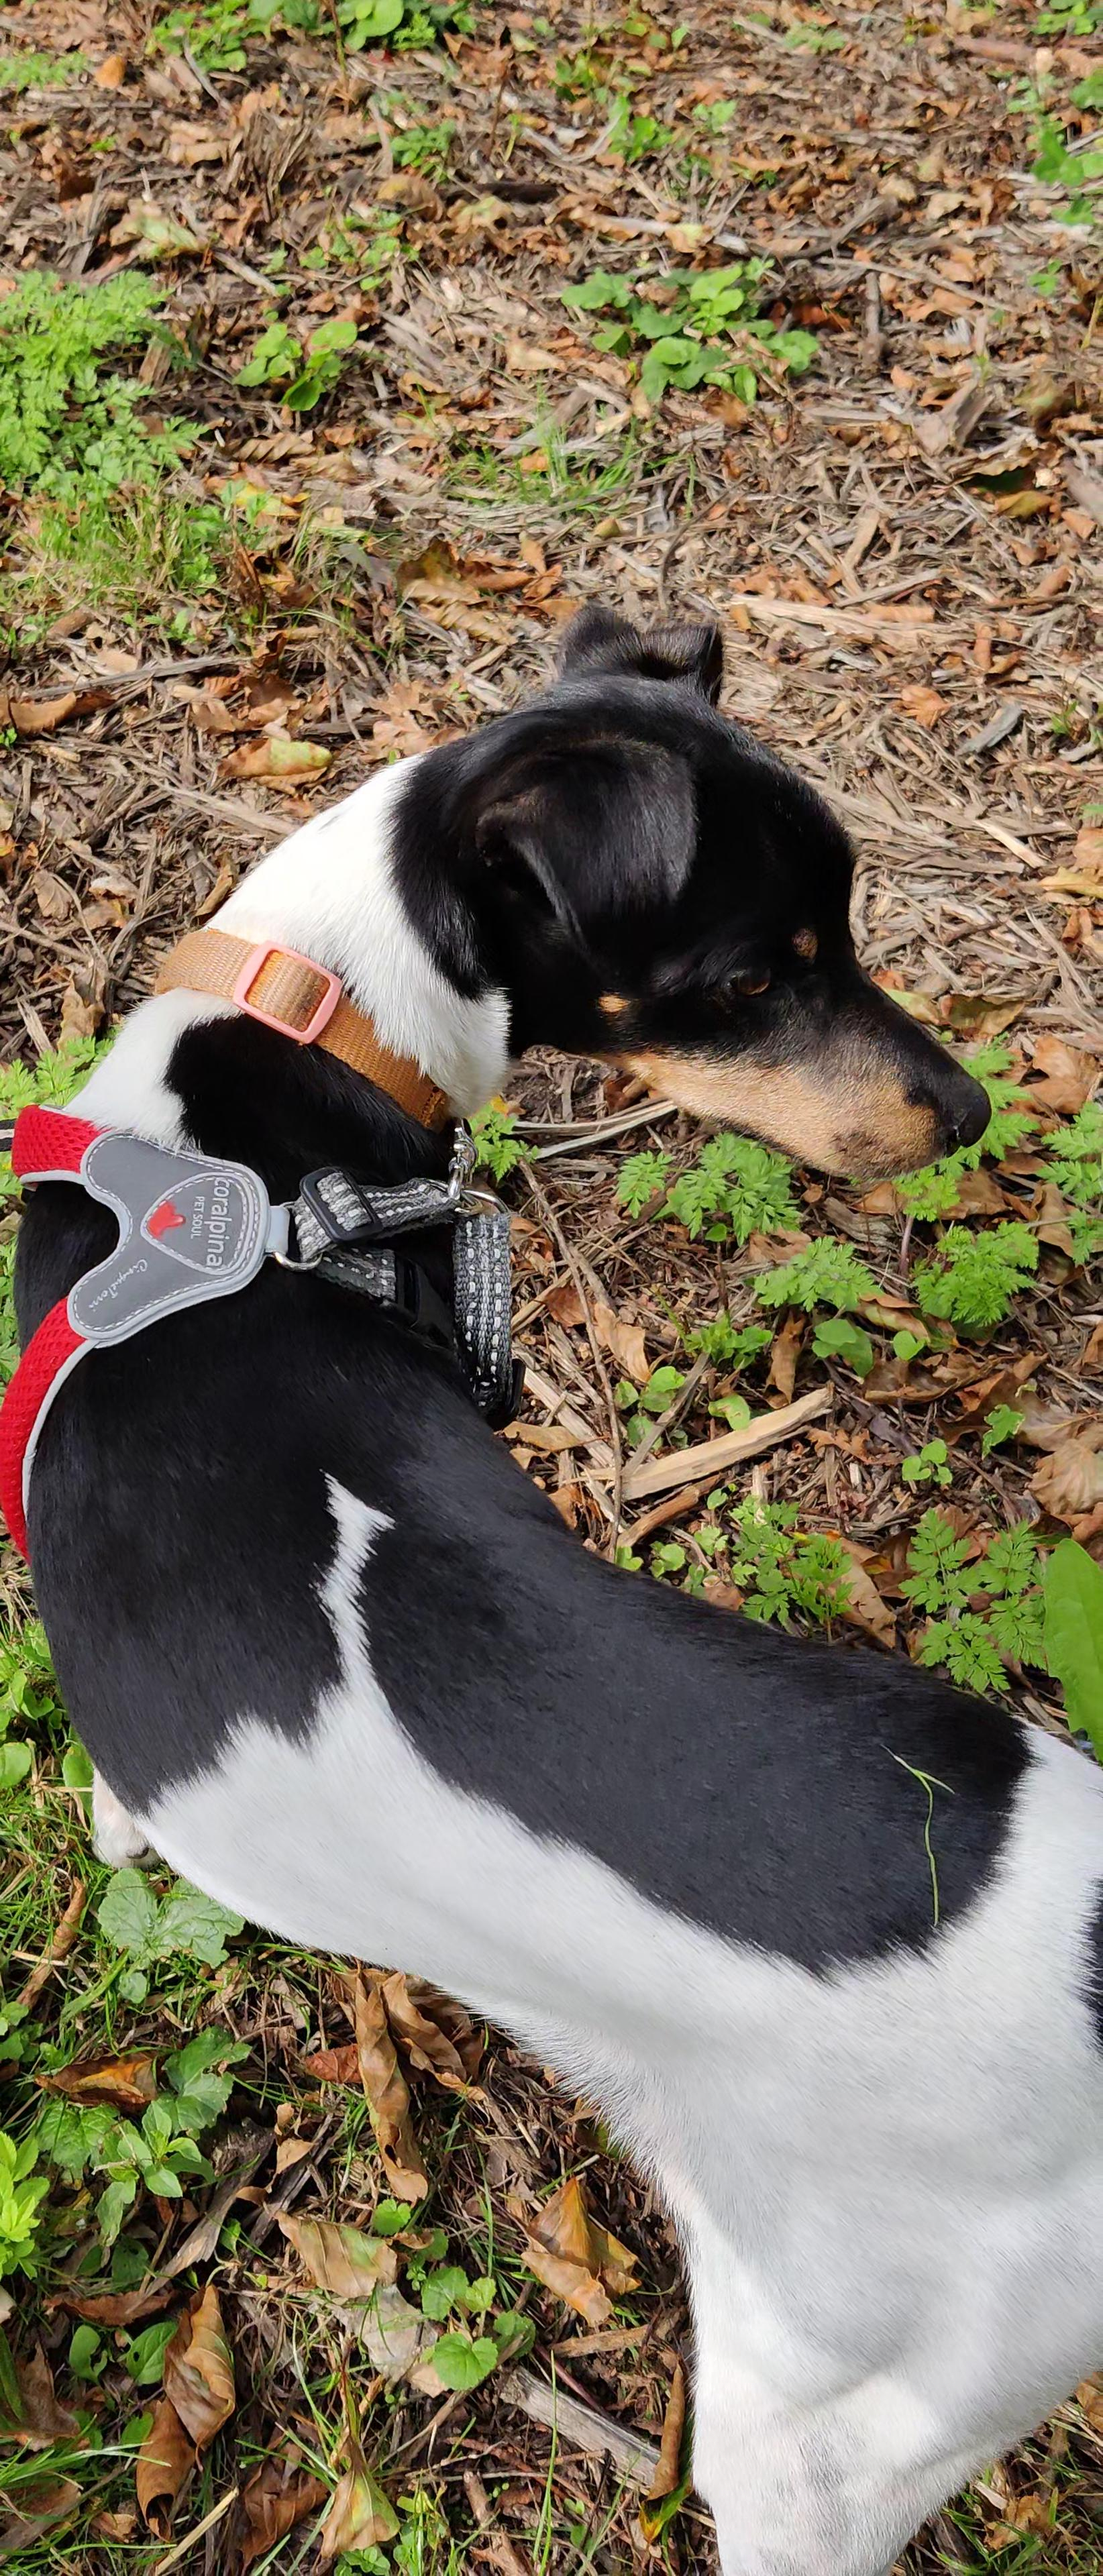Dog: (0, 573, 1103, 2576), (66, 1561, 90, 1564)
